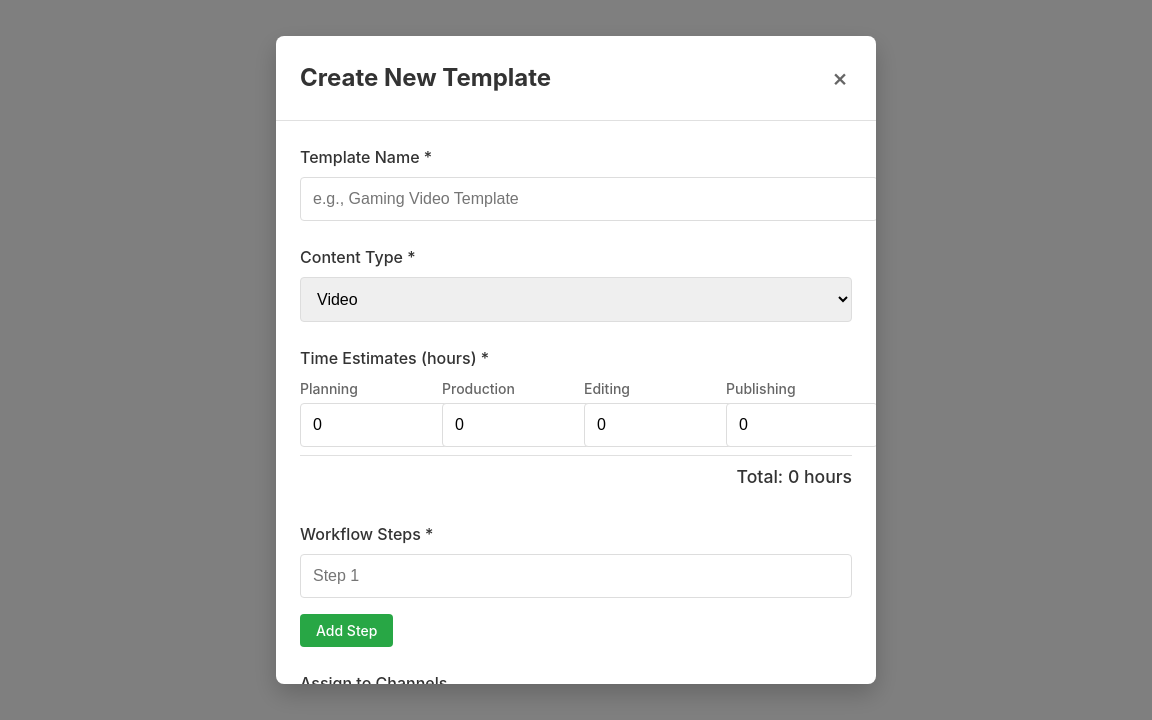
TemplateEditor › calculates total hours correctly
Replace the text in the number field labelled "Planning" with "2": (376, 425) [300,403,452,447]
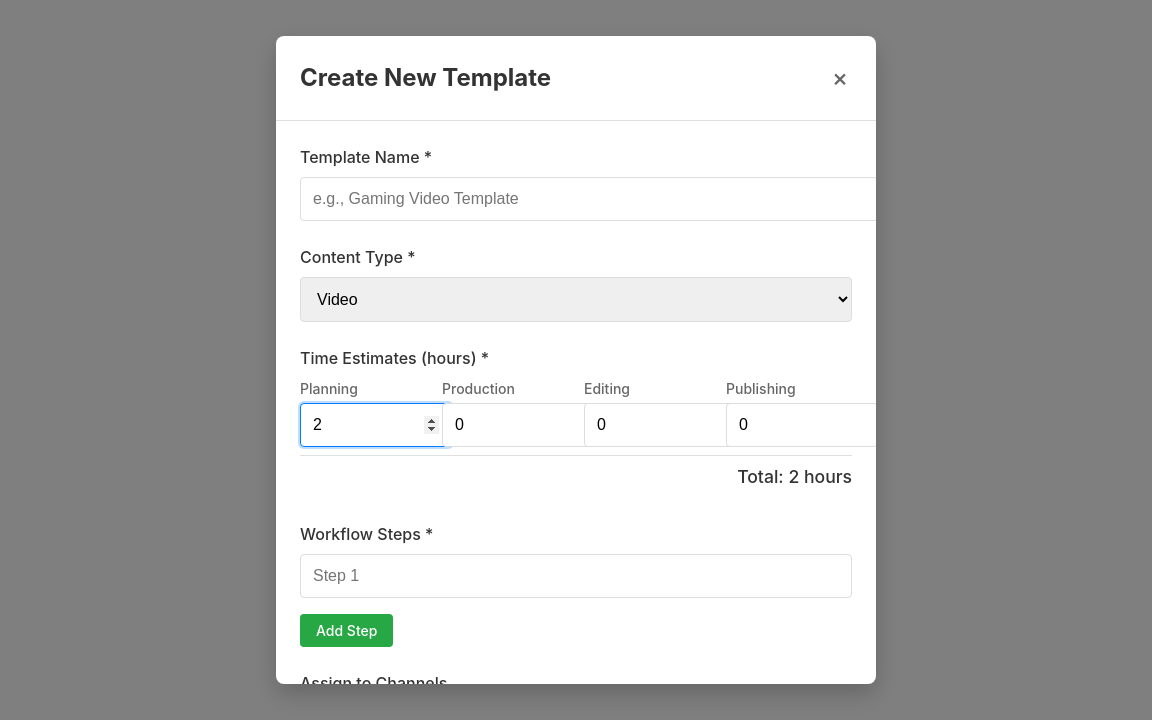
Replace the text in the number field labelled "Production" with "4": (518, 425) [442,403,594,447]
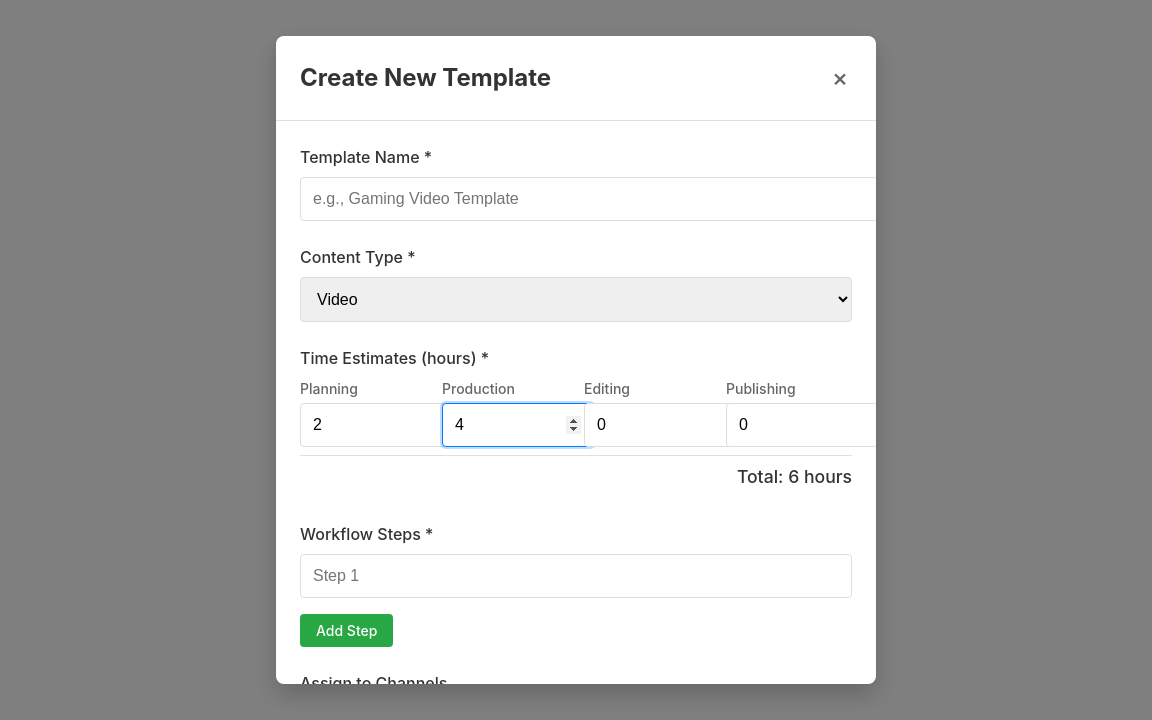
Replace the text in the number field labelled "Editing" with "3": (660, 425) [584,403,736,447]
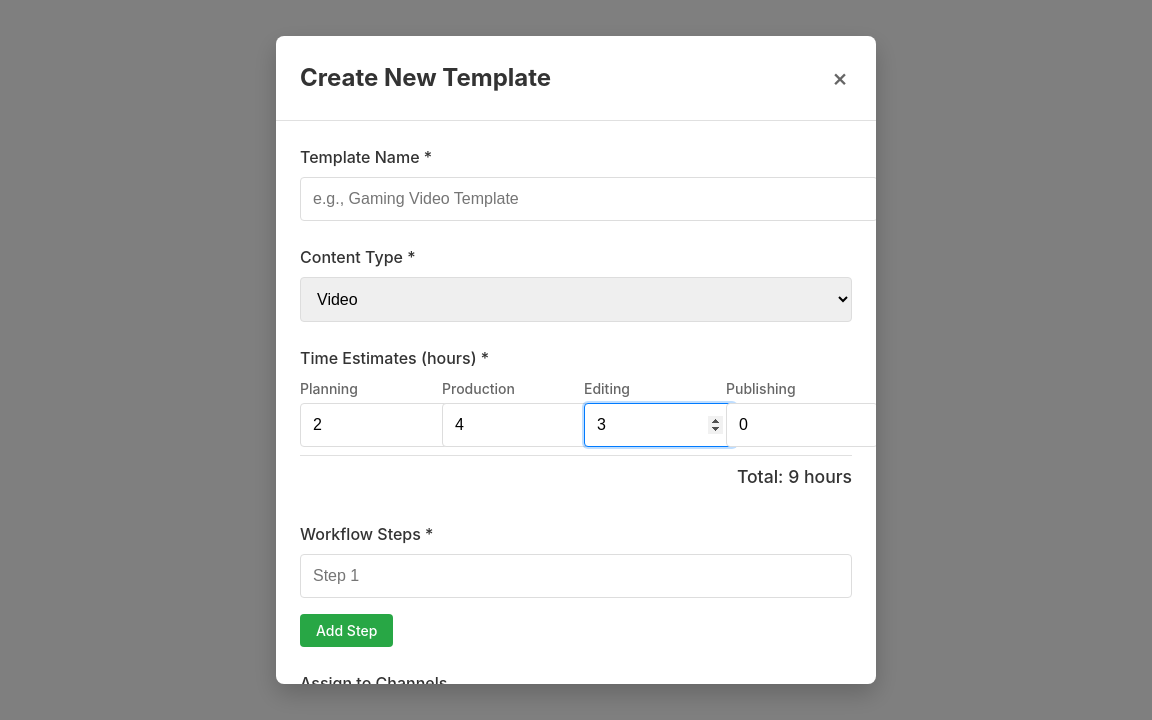
Clear the number field labelled "Publishing": (802, 425) [726,403,878,447]
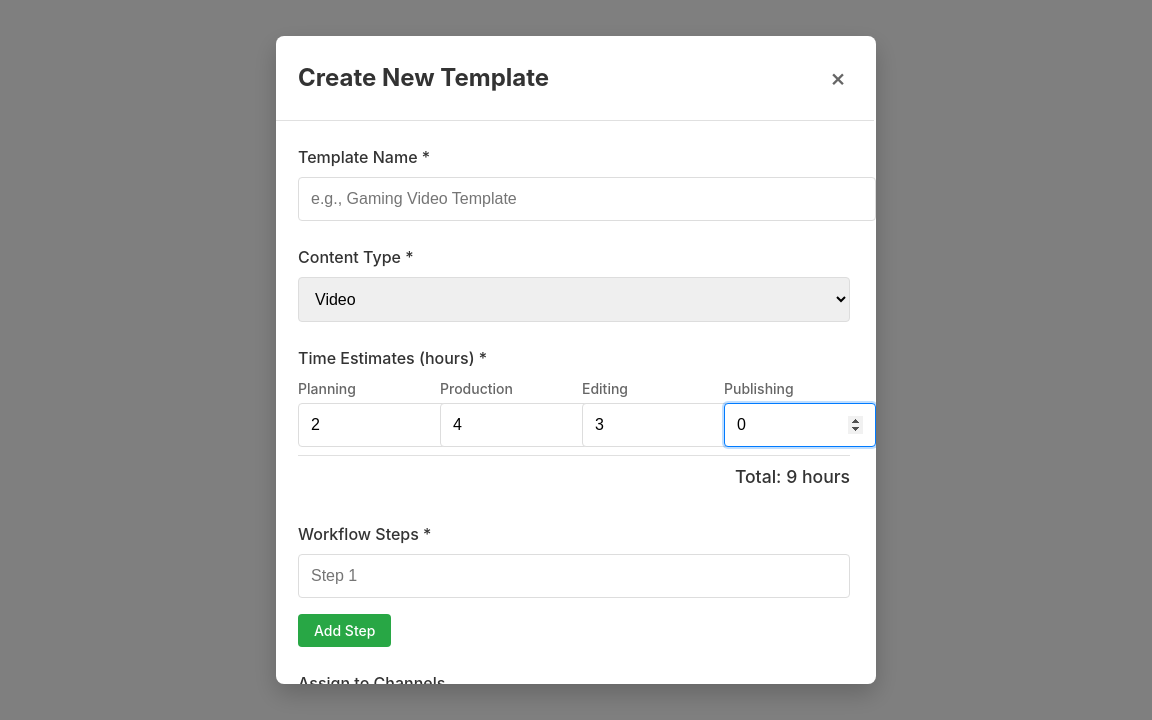
In the number field labelled "Publishing": (800, 425) [724,403,876,447], type "1"
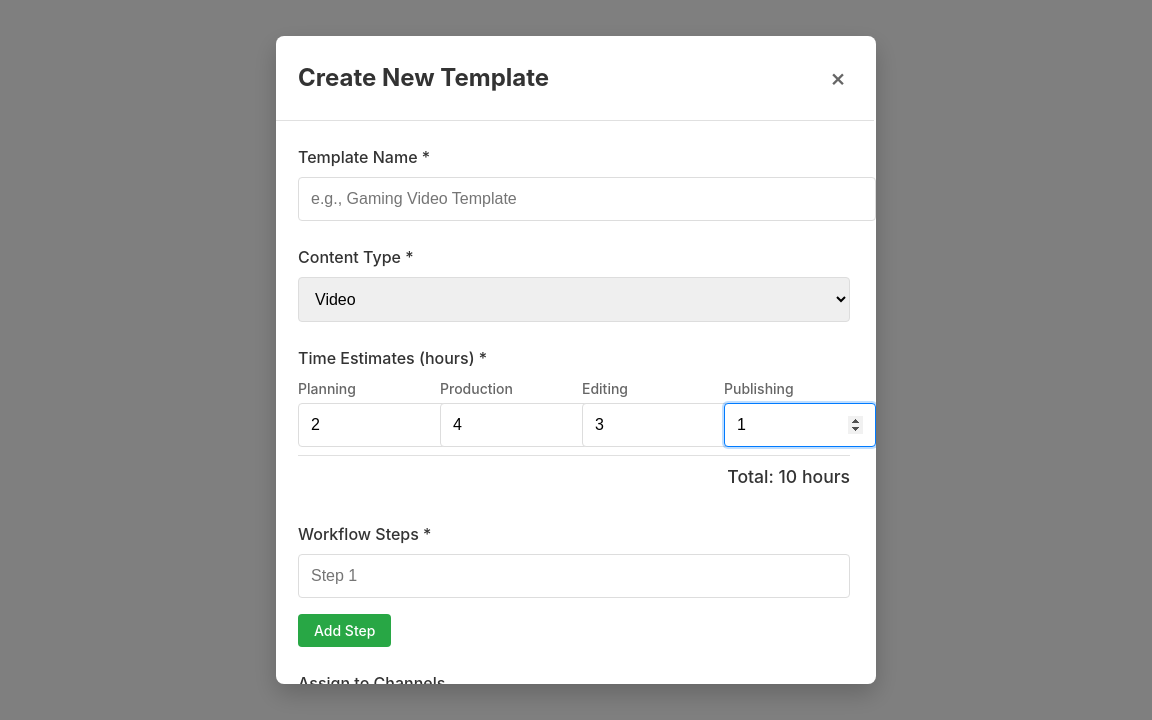
Now the text "Total: 10 hours" is shown, box [298,455,850,498]
